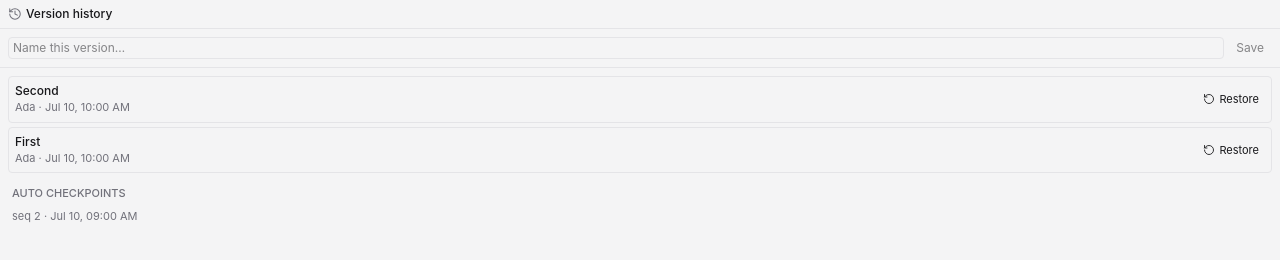
Scenario: VersionHistoryPanel › restores only after an explicit confirm
The image size is (1280, 260).
Expected: the list item with test id "version-v1" is shown, left=8, top=126, right=1272, bottom=173
Click the button with test id "version-restore-v1". click: (1231, 150)
box: left=1197, top=140, right=1265, bottom=160
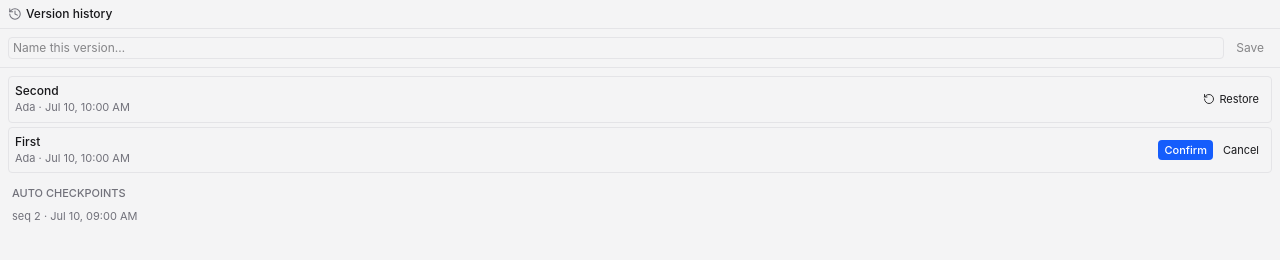
Click the button with test id "version-restore-confirm-v1". click: (1186, 150)
box: left=1158, top=140, right=1213, bottom=160
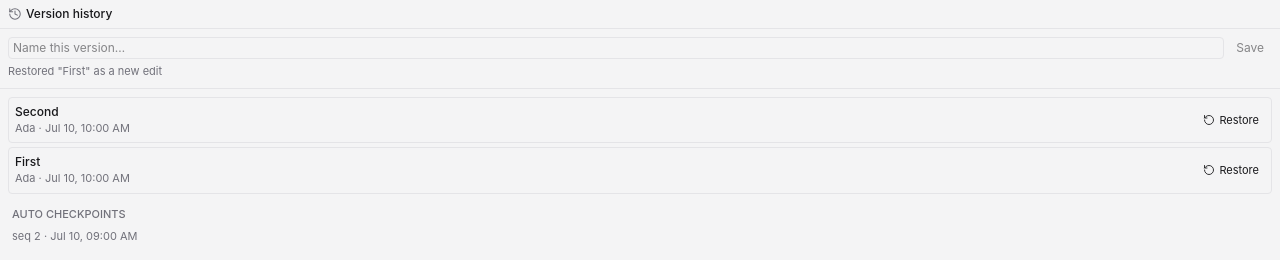
Result: the text "Restored \"First\" as a new edit" is shown at left=8, top=64, right=162, bottom=78
